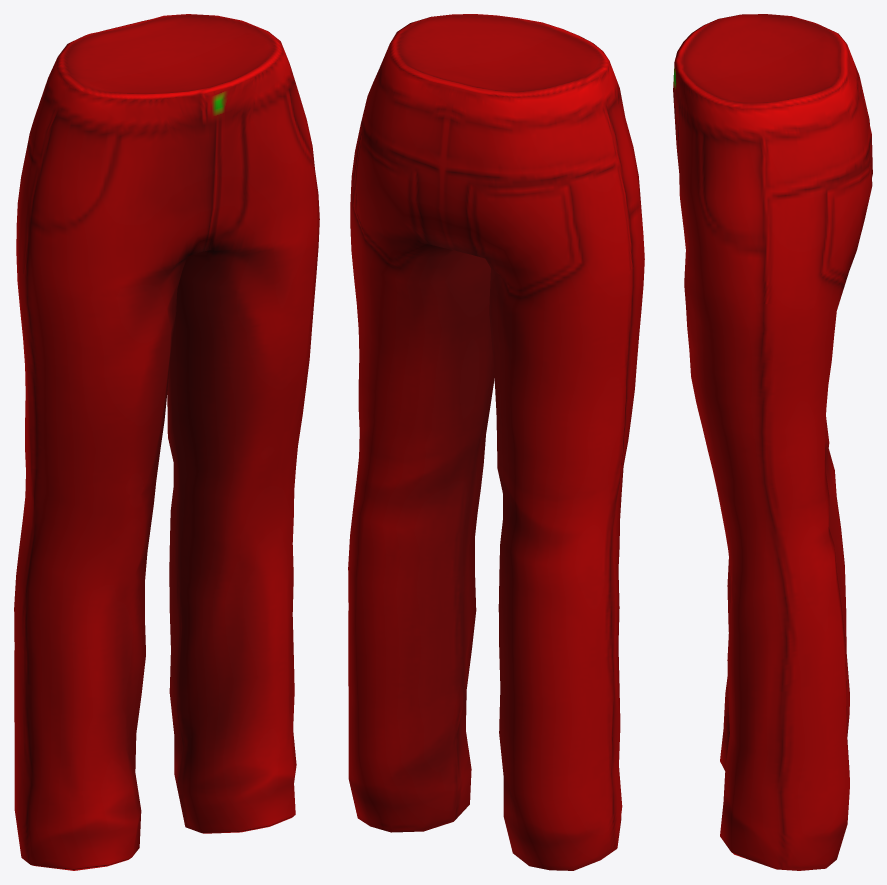
The model's file is Bottom_LooseJeans.obj.
The picture shows the model from 3 angles, left to right: view 1: azimuth 30°, elevation 25°; view 2: azimuth 150°, elevation 25°; view 3: azimuth 270°, elevation 25°; orthographic projection. The views are drawn at different scales.
Visible parts, largest first — view 1: Bottom_LooseJeans_0; view 2: Bottom_LooseJeans_0; view 3: Bottom_LooseJeans_0.
Part boxes in pixels (x1,y1,x2,y2): Bottom_LooseJeans_0: (14, 14, 319, 870); Bottom_LooseJeans_0: (348, 14, 644, 870); Bottom_LooseJeans_0: (673, 14, 872, 870).
Size of the model in its own units: 0.3712 by 0.9966 by 0.2376.
Materials: 1 (1 with a texture image).
